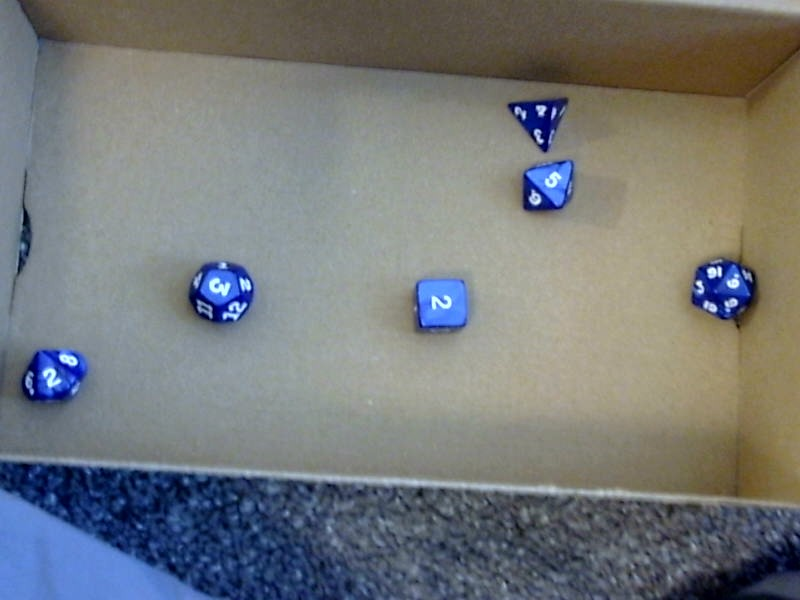d10 2: (14, 344, 89, 405)
d12 3: (184, 254, 255, 325)
d20 6: (688, 249, 759, 325)
d4 4: (500, 98, 571, 154)
d6 2: (408, 271, 473, 336)
d8 5: (520, 158, 576, 213)
